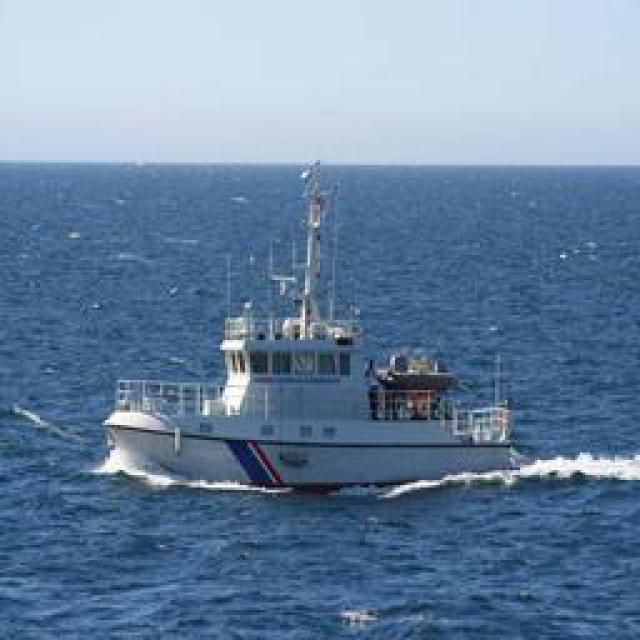Ship: (103, 156, 528, 491)
